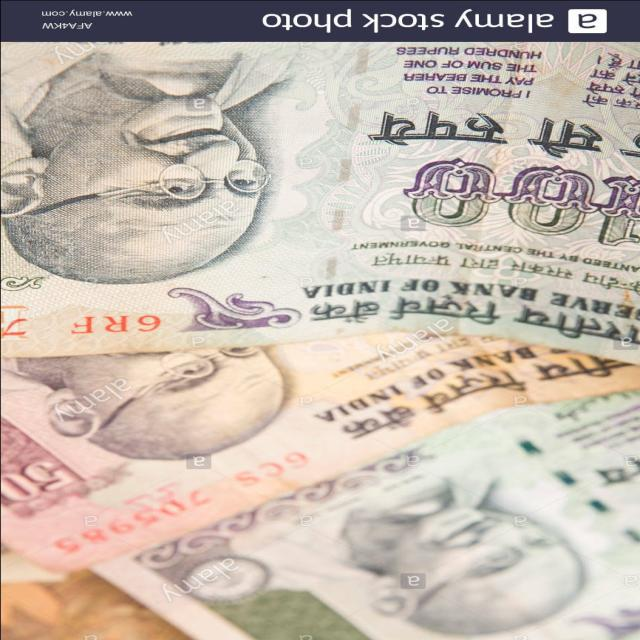100IndianRupees: (0, 42, 640, 354)
